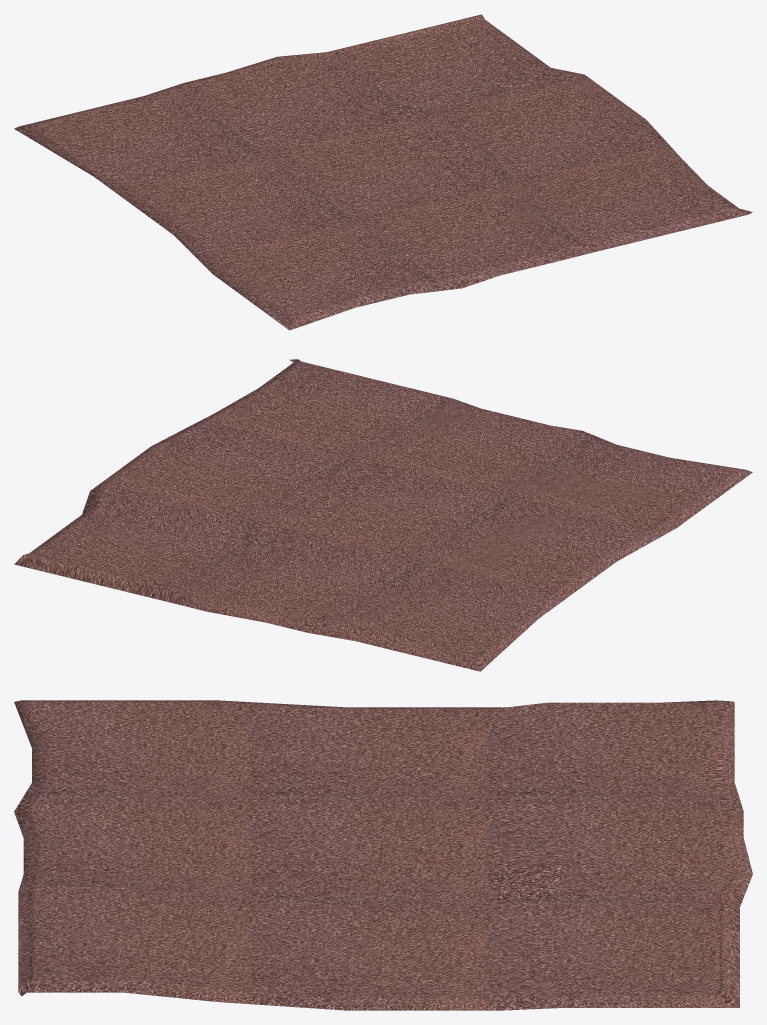
Rendered from Floor_Rug_ASS.fbx.
3 renders of one model, top to bottom at view 1: azimuth 30°, elevation 25°; view 2: azimuth 150°, elevation 25°; view 3: azimuth 270°, elevation 25°, orthographic. The views are drawn at different scales.
Visible parts, largest first — view 1: pCube24; view 2: pCube24; view 3: pCube24.
Part boxes in pixels (box(x1,y1,x2,y2)): pCube24: box(14, 14, 752, 330); pCube24: box(14, 359, 752, 671); pCube24: box(14, 700, 752, 1010).
Size of the model in its own units: 55.99 by 1.32 by 56.66.
Materials: 1 (1 with a texture image).
